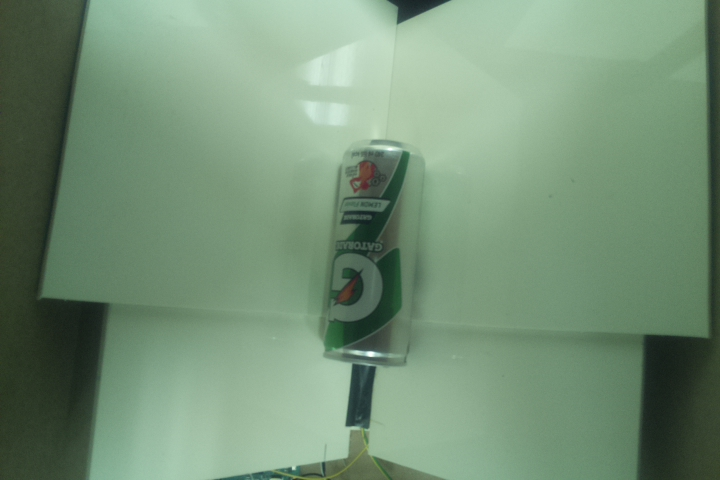can: (315, 138, 426, 370)
